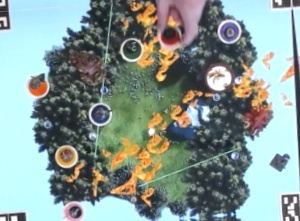blue: (86, 99, 112, 125)
green: (118, 35, 145, 64)
orange: (25, 72, 51, 99)
pink: (58, 196, 92, 221)
red: (156, 22, 185, 51)
violet: (216, 17, 243, 45)
yellow: (53, 140, 81, 170)
